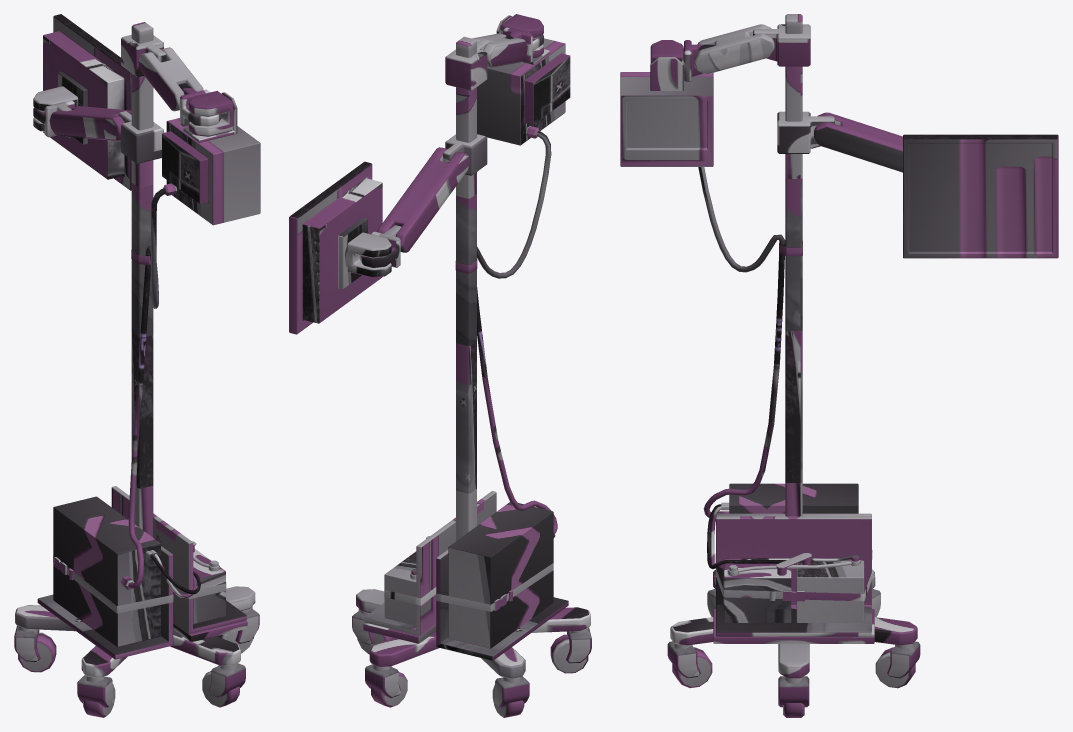
Rendered from SM_PatientMonitorEquipement.fbx.
The picture shows the model from 3 angles, left to right: view 1: azimuth 30°, elevation 25°; view 2: azimuth 150°, elevation 25°; view 3: azimuth 270°, elevation 25°; orthographic projection. The views are drawn at different scales.
Parts seen in each view (by area): view 1: PME Live Supply, PME Main Pole, PME Monitor Big, PME Monitor Small and Thicc cuz idk has big baterries in it, PME Base Holders, PME Wheels, PME Base, Cable Monitor, MPE Vertical Sliders, PME Arm 1, PME Arm 2, PME Backup Power (+8 smaller); view 2: PME Live Supply, PME Monitor Big, PME Main Pole, PME Monitor Small and Thicc cuz idk has big baterries in it, PME Base Holders, PME Wheels, PME Arm 1, PME Base, Cable Monitor, MPE Vertical Sliders, PME Backup Power, PME Joint 2 (+6 smaller); view 3: PME Monitor Big, PME Base Holders, PME Monitor Small and Thicc cuz idk has big baterries in it, PME Main Pole, PME Backup Power, PME Wheels, PME Live Supply, PME Base, MPE Vertical Sliders, Cable Monitor, PME Arm 1, PME Arm 2 (+4 smaller).
Part boxes in pixels (bbox=[...]): PME Live Supply: bbox=[53, 496, 160, 647]; PME Main Pole: bbox=[131, 22, 153, 537]; PME Monitor Big: bbox=[43, 14, 131, 190]; PME Monitor Small and Thicc cuz idk has big baterries in it: bbox=[162, 118, 260, 225]; PME Base Holders: bbox=[37, 486, 246, 659]; PME Wheels: bbox=[14, 606, 259, 717]; PME Base: bbox=[15, 586, 255, 677]; Cable Monitor: bbox=[128, 188, 165, 588]; MPE Vertical Sliders: bbox=[118, 34, 166, 163]; PME Arm 1: bbox=[49, 106, 131, 140]; PME Arm 2: bbox=[138, 47, 203, 111]; PME Backup Power: bbox=[193, 549, 225, 623]; PME Live Supply: bbox=[448, 502, 553, 648]; PME Monitor Big: bbox=[289, 161, 382, 334]; PME Main Pole: bbox=[456, 36, 476, 540]; PME Monitor Small and Thicc cuz idk has big baterries in it: bbox=[477, 38, 570, 145]; PME Base Holders: bbox=[364, 491, 568, 660]; PME Wheels: bbox=[352, 608, 591, 717]; PME Arm 1: bbox=[377, 147, 469, 252]; PME Base: bbox=[356, 589, 590, 678]; Cable Monitor: bbox=[477, 131, 557, 533]; MPE Vertical Sliders: bbox=[443, 39, 489, 175]; PME Backup Power: bbox=[384, 551, 416, 625]; PME Joint 2: bbox=[347, 232, 391, 277]; PME Monitor Big: bbox=[903, 134, 1058, 258]; PME Base Holders: bbox=[716, 513, 871, 636]; PME Monitor Small and Thicc cuz idk has big baterries in it: bbox=[620, 72, 713, 166]; PME Main Pole: bbox=[785, 14, 802, 516]; PME Backup Power: bbox=[723, 560, 864, 622]; PME Wheels: bbox=[667, 589, 920, 717]; PME Live Supply: bbox=[729, 483, 858, 513]; PME Base: bbox=[670, 570, 917, 678]; MPE Vertical Sliders: bbox=[753, 24, 834, 153]; Cable Monitor: bbox=[698, 167, 785, 517]; PME Arm 1: bbox=[814, 112, 902, 172]; PME Arm 2: bbox=[694, 24, 774, 73].
Size of the model in its own units: 59.95 by 109 by 180.
